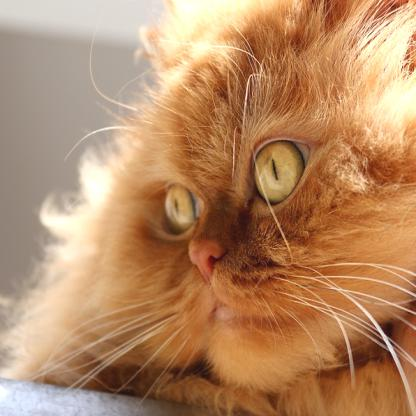cat: (37, 0, 416, 415)
